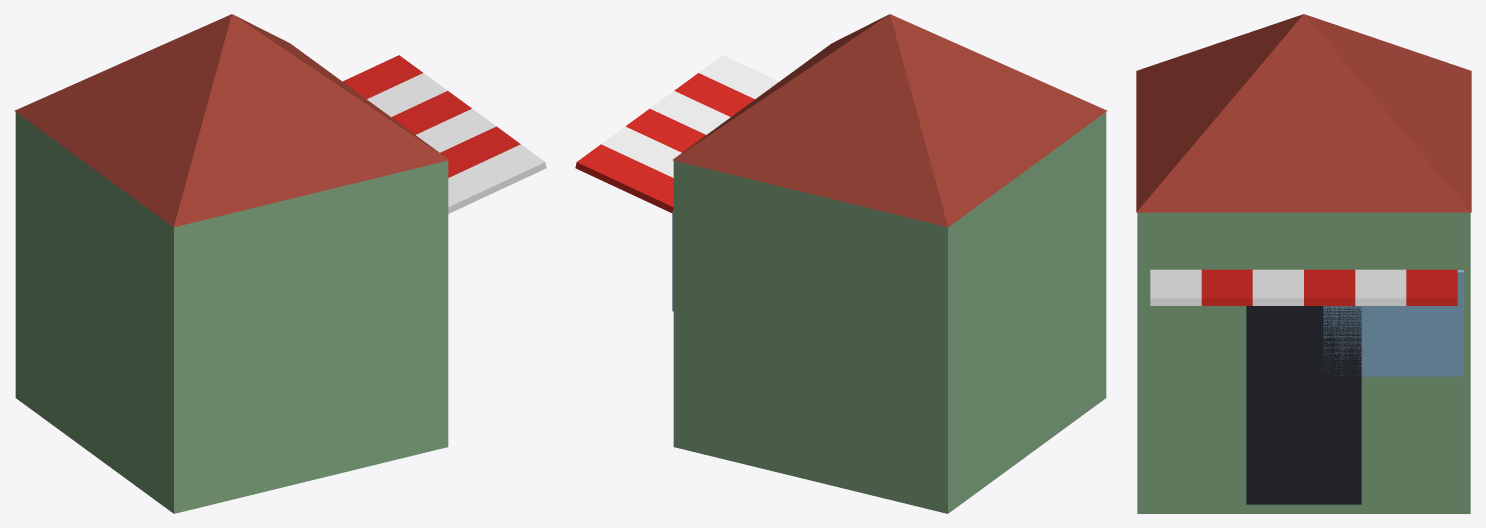
File: kiosco.obj
3 views of the same model, side by side, from view 1: azimuth 30°, elevation 25°; view 2: azimuth 150°, elevation 25°; view 3: azimuth 270°, elevation 25° (orthographic). The views are drawn at different scales.
Parts seen in each view (by area): view 1: kiosco; view 2: kiosco; view 3: kiosco.
Part boxes in pixels (x1,y1,x2,y2): kiosco: (14, 14, 546, 513); kiosco: (575, 14, 1107, 513); kiosco: (1136, 14, 1471, 513).
Size of the model in its own units: 3.6 by 3.7 by 2.62.
